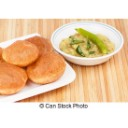poori: (29, 53, 66, 83), (1, 62, 27, 94), (3, 40, 37, 64)
